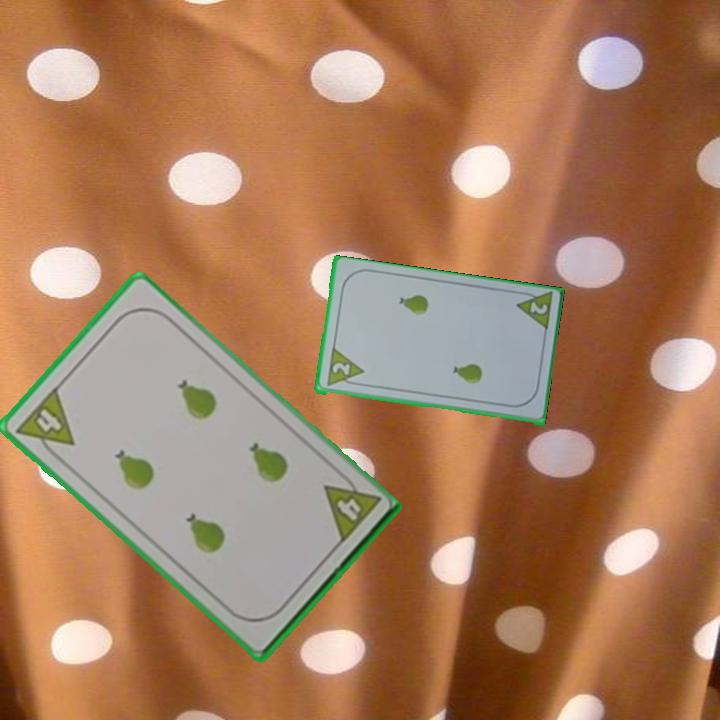2p: (512, 288, 555, 335), (328, 359, 353, 380)
4p: (12, 383, 77, 464), (320, 467, 383, 547)
